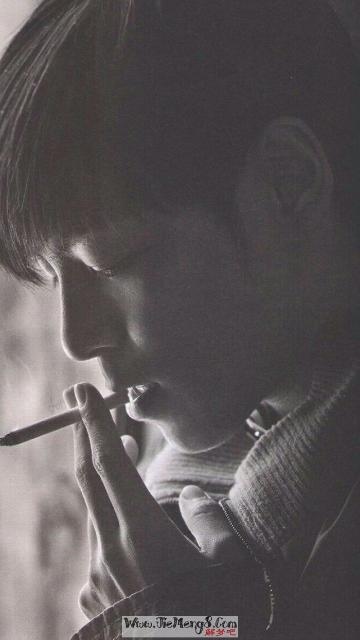Cigarette: (0, 396, 112, 450)
